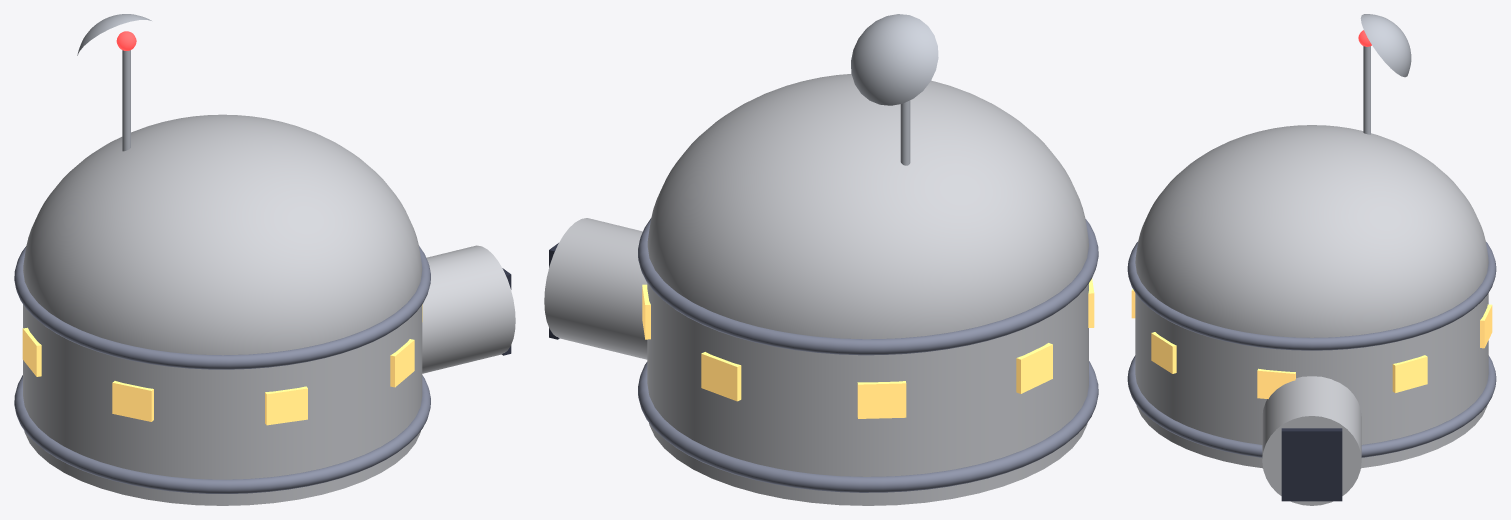
The model's file is habitat.glb.
3 views of the same model, side by side, from view 1: azimuth 30°, elevation 25°; view 2: azimuth 150°, elevation 25°; view 3: azimuth 270°, elevation 25° (orthographic). The views are drawn at different scales.
Parts seen in each view (by area): view 1: habitat; view 2: habitat; view 3: habitat.
Part boxes in pixels (x1=…): habitat: x1=14, y1=14, x2=515, y2=505; habitat: x1=544, y1=14, x2=1098, y2=505; habitat: x1=1127, y1=14, x2=1496, y2=505.
Size of the model in its own units: 8.36 by 7 by 6.68.
